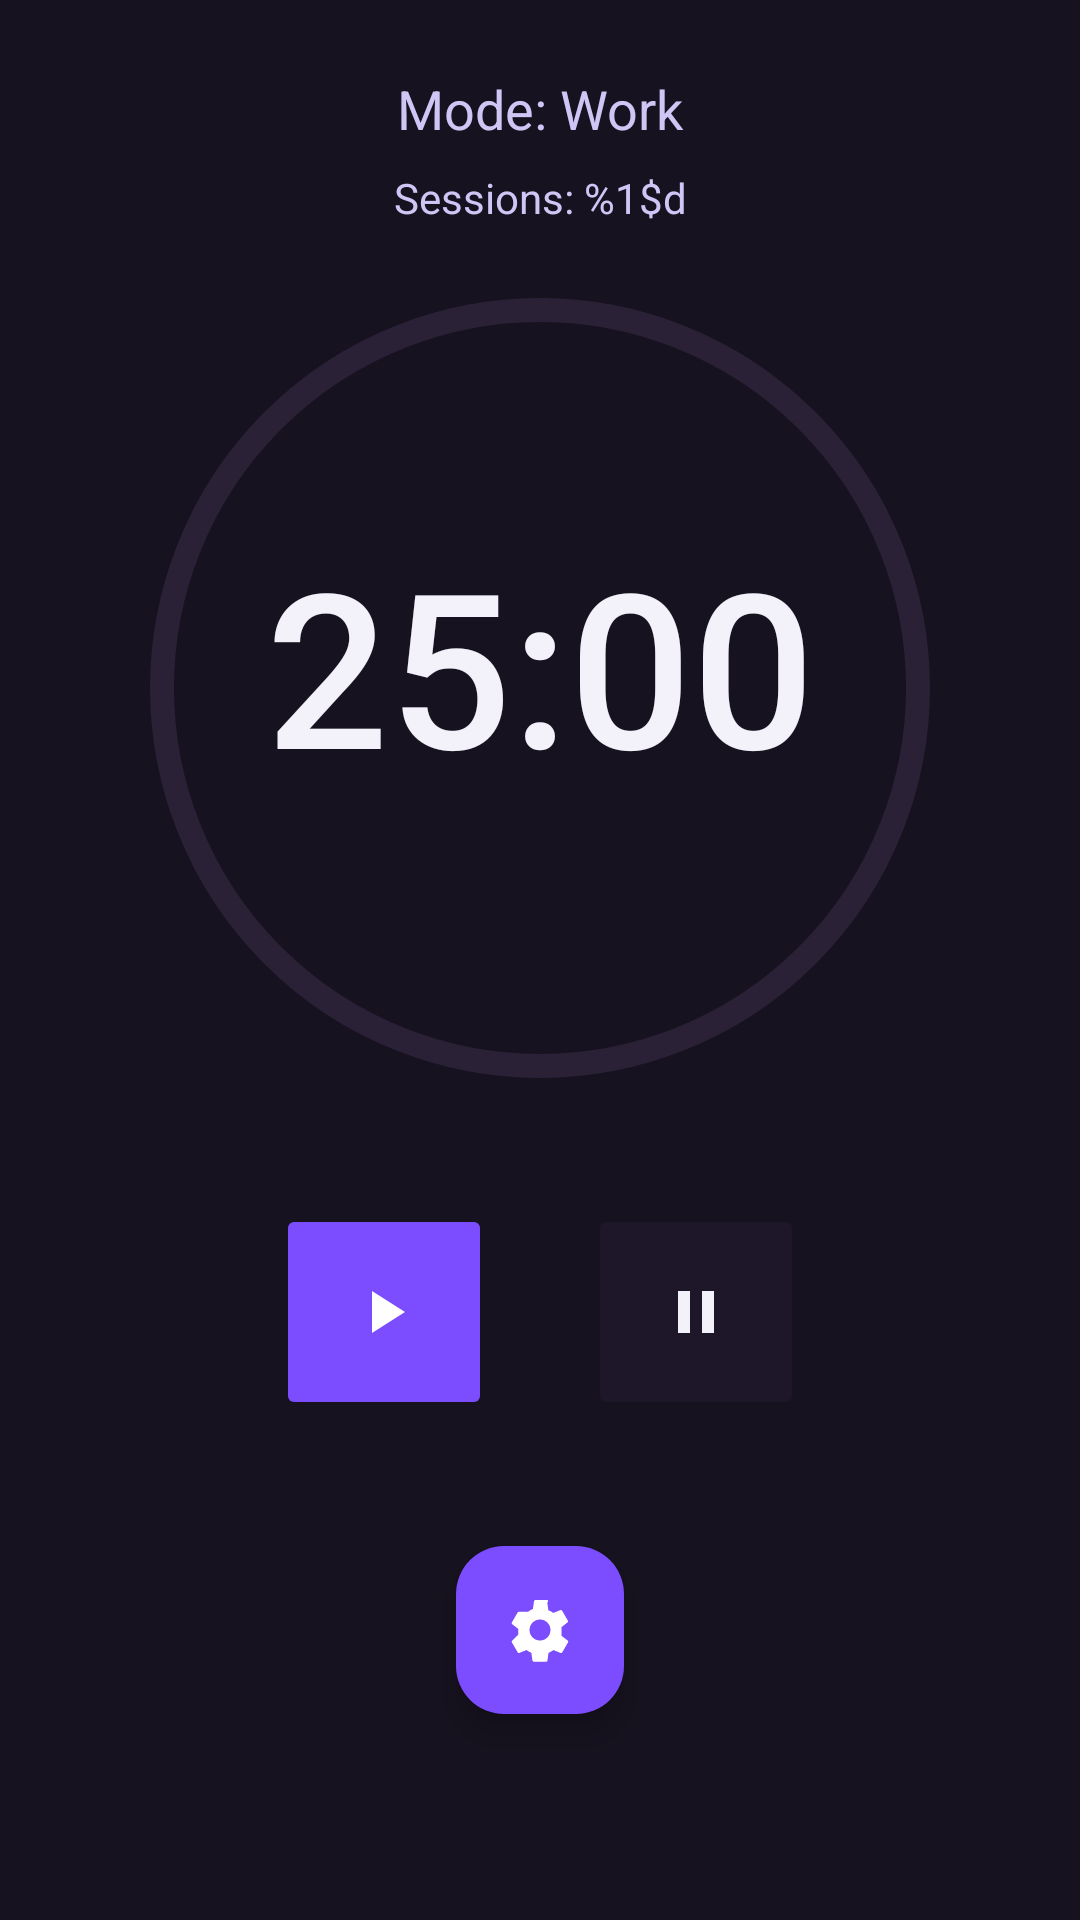

Named icons in this screenshot (1080px x 1920px) and their bounding boxes, box=[x1, y1, x2, y2]:
Settings: box=[456, 1546, 624, 1714]
Start: box=[288, 1222, 480, 1402]
